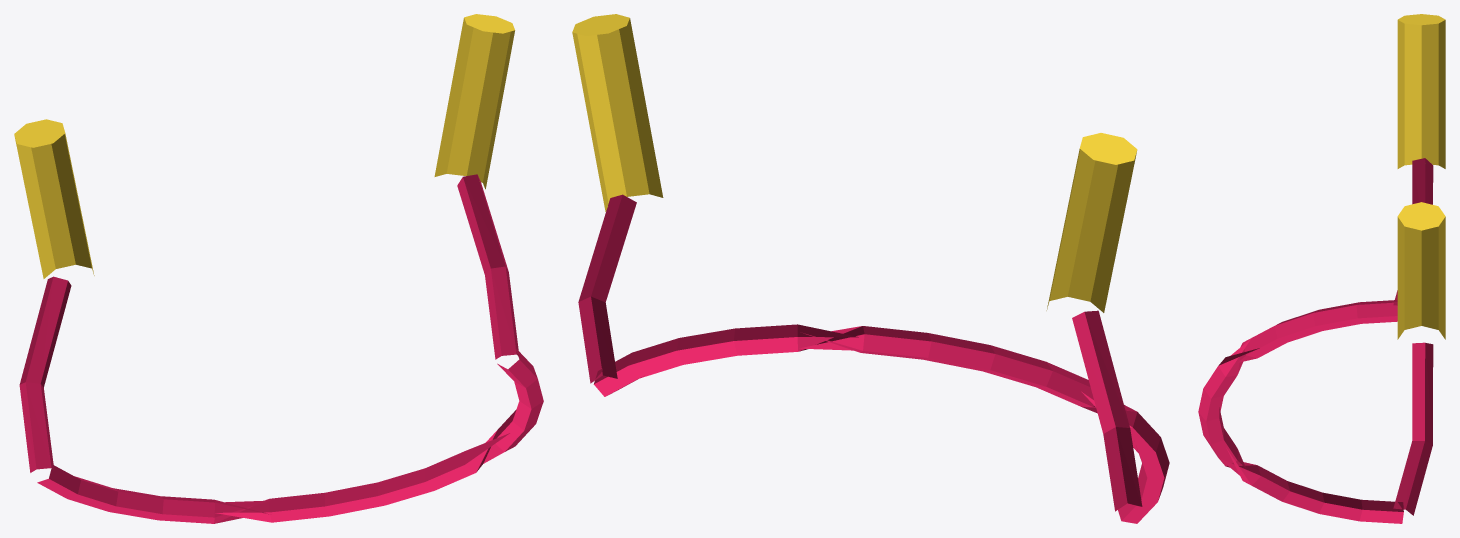
File: hopprep.glb
3 views of the same model, side by side, from view 1: azimuth 30°, elevation 25°; view 2: azimuth 150°, elevation 25°; view 3: azimuth 270°, elevation 25° (orthographic). The views are drawn at different scales.
Parts seen in each view (by area): view 1: hopprep; view 2: hopprep; view 3: hopprep.
Part boxes in pixels (x1,y1,x2,y2): hopprep: [14, 14, 543, 523]; hopprep: [572, 14, 1169, 523]; hopprep: [1198, 14, 1445, 523].
Size of the model in its own units: 0.5326 by 0.3538 by 0.257.
